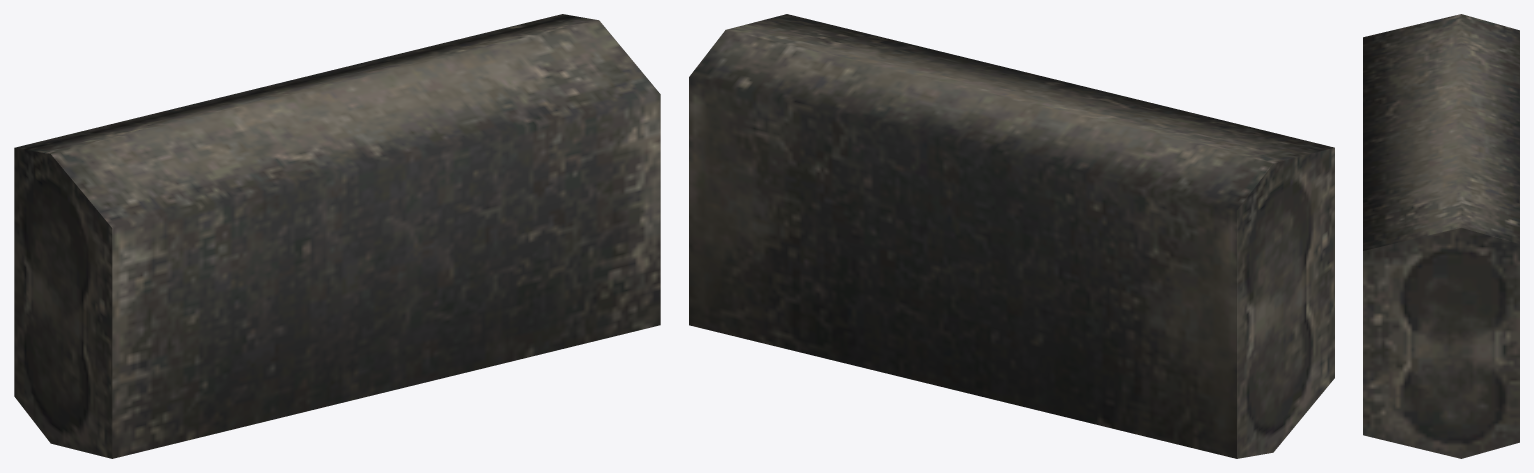
The picture shows the model from 3 angles, left to right: view 1: azimuth 30°, elevation 25°; view 2: azimuth 150°, elevation 25°; view 3: azimuth 270°, elevation 25°; orthographic projection. The views are drawn at different scales.
Visible parts, largest first — view 1: set_0_group_0; view 2: set_0_group_0; view 3: set_0_group_0.
Part boxes in pixels (x1,y1,x2,y2): set_0_group_0: [14, 14, 660, 458]; set_0_group_0: [689, 14, 1334, 458]; set_0_group_0: [1363, 14, 1519, 458].
Bounding box in the file's own units: 0.306 × 0.1543 × 0.0948.
1 material, 1 textured.
